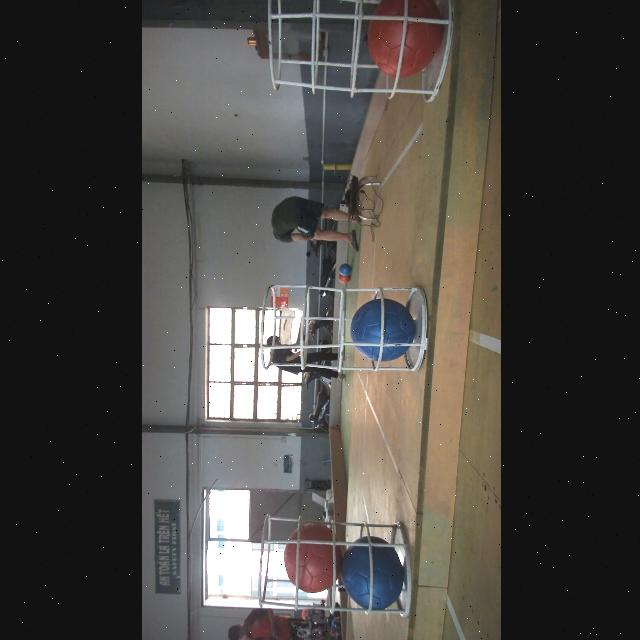B: (338, 538, 402, 610), (349, 298, 413, 362)
R: (364, 1, 438, 77), (282, 522, 338, 594)
